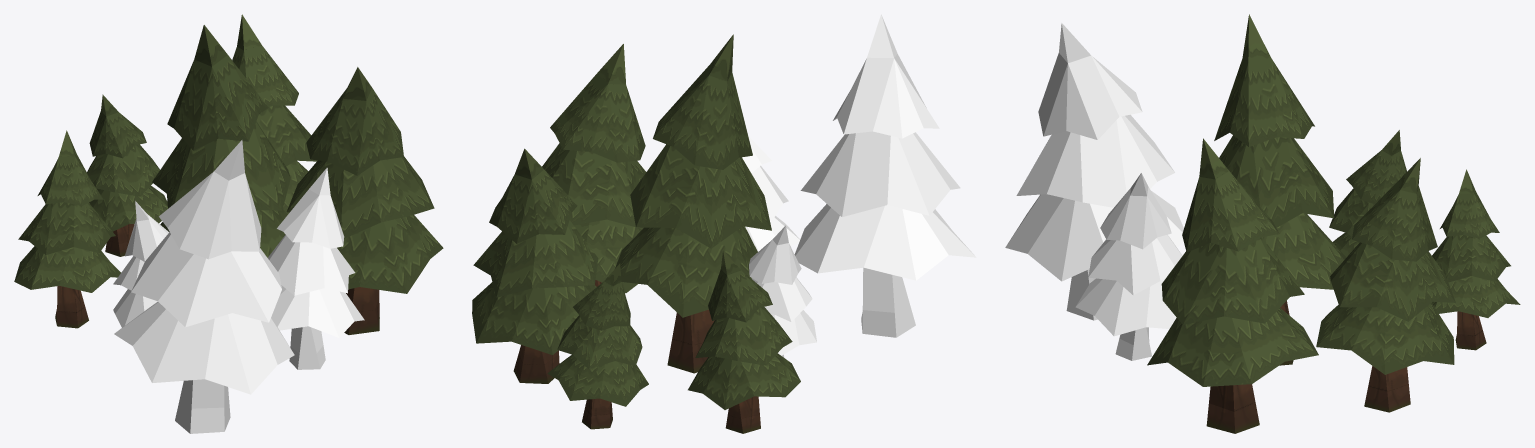
Rendered from pines.glb.
3 views of the same model, side by side, from view 1: azimuth 30°, elevation 25°; view 2: azimuth 150°, elevation 25°; view 3: azimuth 270°, elevation 25° (orthographic).
Parts seen in each view (by area): view 1: trees; view 2: trees; view 3: trees.
Part boxes in pixels (x1,y1,x2,y2): trees: (14, 14, 443, 433); trees: (472, 14, 976, 433); trees: (1005, 14, 1520, 433).
Bounding box in the file's own units: 1.39 × 1.2 × 1.67.
Materials: 4 (3 with a texture image).
